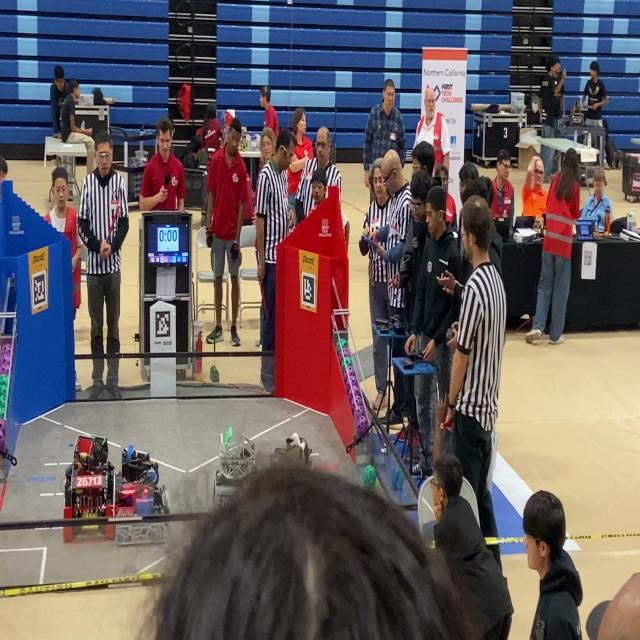artifact_green: (363, 465, 376, 488), (341, 357, 352, 372), (210, 366, 219, 382), (338, 338, 349, 349), (0, 390, 6, 405), (0, 374, 8, 384), (0, 383, 7, 394)
artifact_purple: (391, 466, 404, 491), (356, 415, 369, 437), (346, 377, 357, 397), (353, 389, 363, 406), (350, 371, 359, 389), (350, 370, 359, 388), (355, 395, 364, 413), (353, 405, 365, 417), (0, 357, 9, 373), (355, 388, 363, 404), (355, 405, 366, 416), (0, 388, 7, 404), (0, 344, 11, 354), (352, 381, 358, 399), (0, 419, 5, 440), (0, 354, 10, 364), (0, 350, 11, 359), (337, 350, 344, 364), (347, 361, 355, 373), (347, 386, 353, 402), (343, 370, 349, 386), (347, 360, 355, 372), (0, 353, 10, 362), (341, 348, 351, 357), (0, 429, 4, 450), (351, 400, 357, 414), (2, 348, 11, 357), (0, 364, 8, 374), (0, 365, 8, 374), (0, 375, 8, 384), (343, 371, 348, 385), (342, 369, 348, 380)
